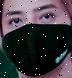with_mask: (2, 1, 72, 78)
